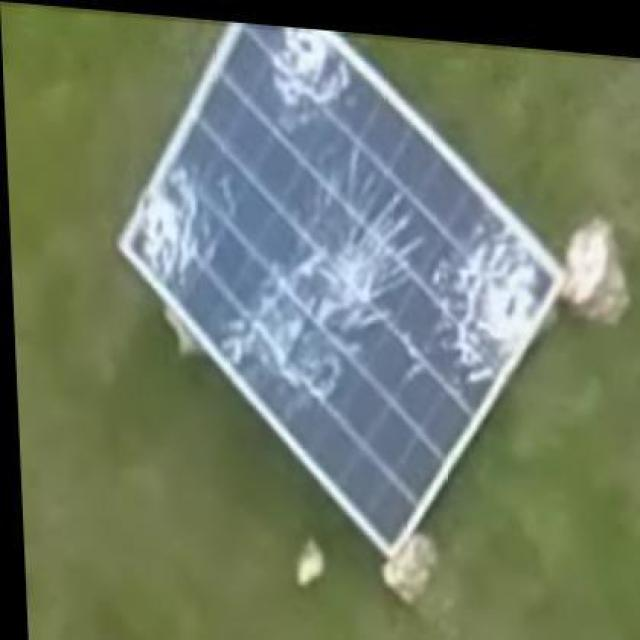cracked: (111, 18, 572, 556)
